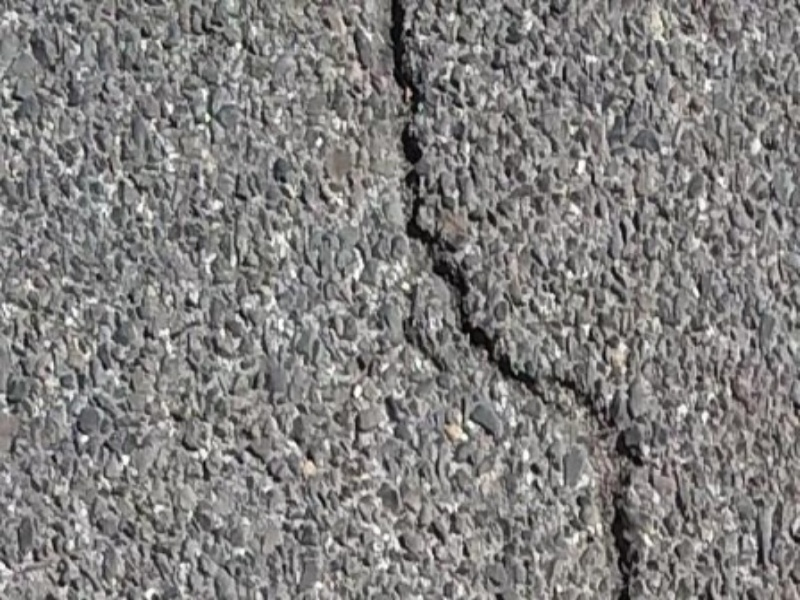crack: (330, 13, 643, 593)
